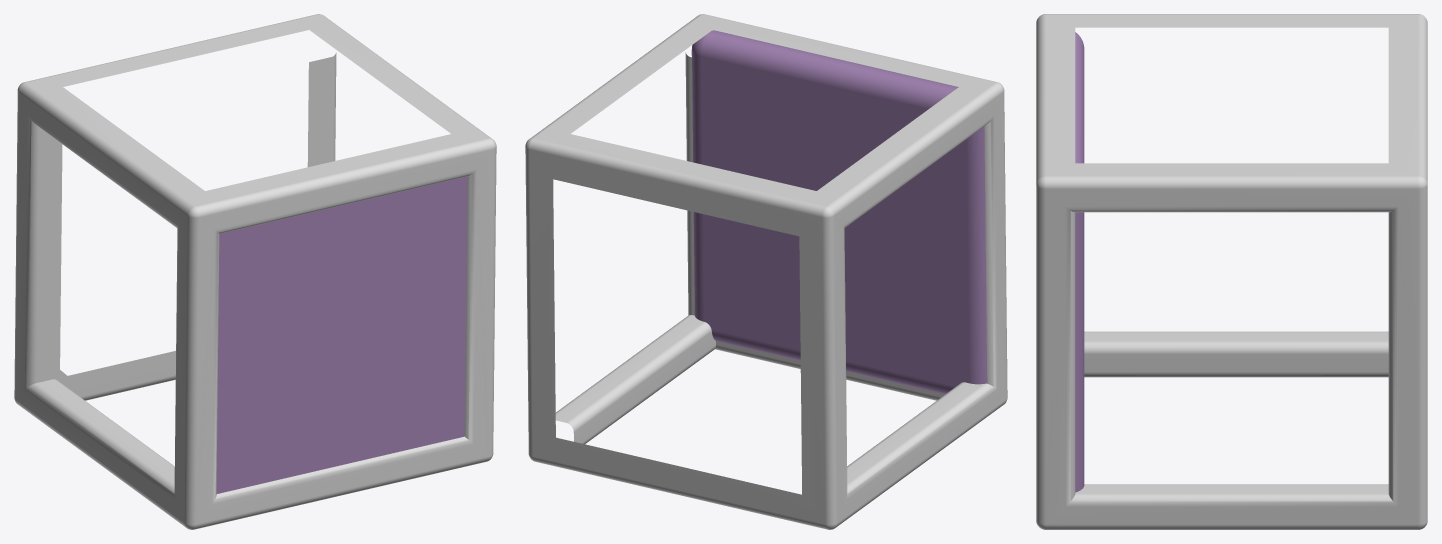
Rendered from purpleCube.glb.
3 views of the same model, side by side, from view 1: azimuth 30°, elevation 25°; view 2: azimuth 150°, elevation 25°; view 3: azimuth 270°, elevation 25° (orthographic). The views are drawn at different scales.
Parts seen in each view (by area): view 1: Box, Box 1; view 2: Box, Box 1; view 3: Box, Box 1.
Boxes of the visible parts, x1=… form: Box: x1=14, y1=14, x2=496, y2=529; Box 1: x1=216, y1=176, x2=467, y2=493; Box: x1=525, y1=14, x2=1007, y2=529; Box 1: x1=691, y1=30, x2=987, y2=394; Box: x1=1036, y1=14, x2=1427, y2=529; Box 1: x1=1075, y1=32, x2=1084, y2=492.
Bounding box in the file's own units: 0.1011 × 0.1011 × 0.1.
